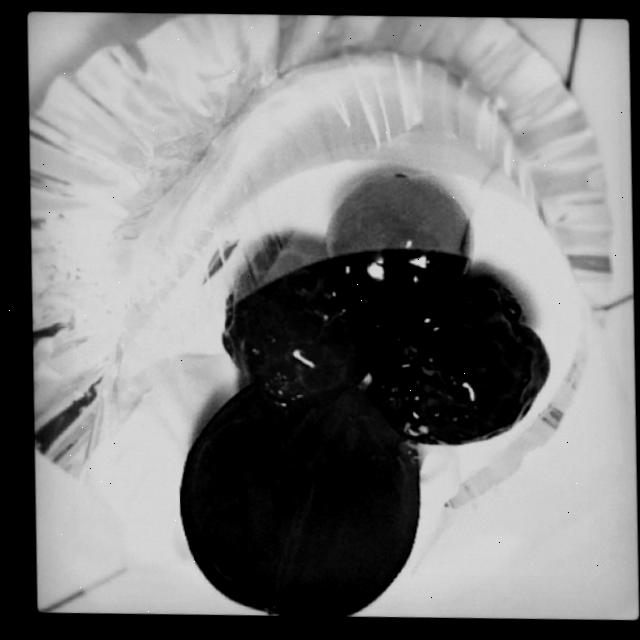蛋糕甜品: (34, 7, 624, 614)
